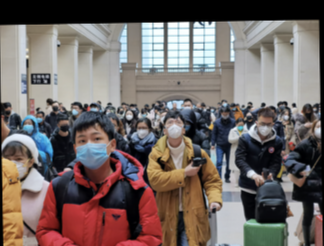with_mask: (76, 130, 110, 171), (4, 153, 28, 180), (165, 118, 184, 139), (257, 119, 273, 136), (22, 120, 34, 135), (136, 125, 149, 138), (58, 121, 70, 132), (313, 123, 321, 139), (71, 105, 80, 116), (34, 114, 43, 124), (183, 102, 192, 111), (125, 112, 134, 120), (236, 123, 244, 132), (245, 112, 253, 121), (304, 109, 312, 118), (221, 112, 230, 119), (282, 112, 289, 121), (52, 104, 59, 112), (89, 105, 97, 112), (155, 112, 161, 120), (141, 112, 147, 118), (222, 101, 228, 107), (232, 105, 237, 110), (210, 107, 214, 112), (313, 106, 317, 111)
